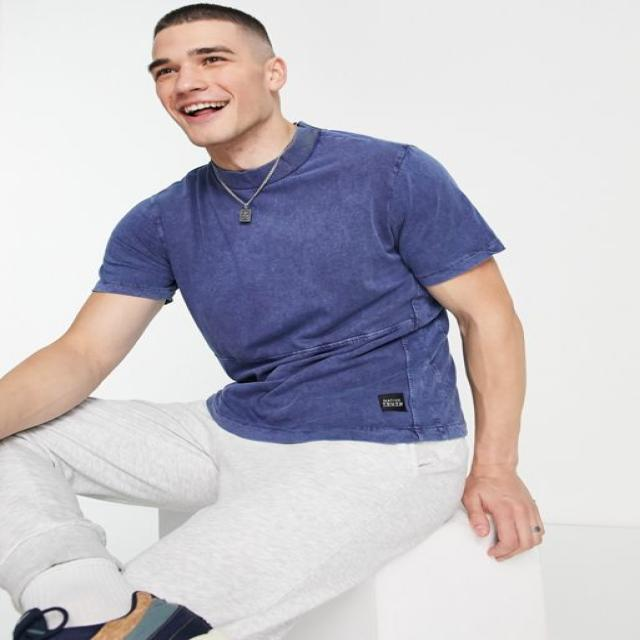tshirt: (90, 120, 505, 446)
